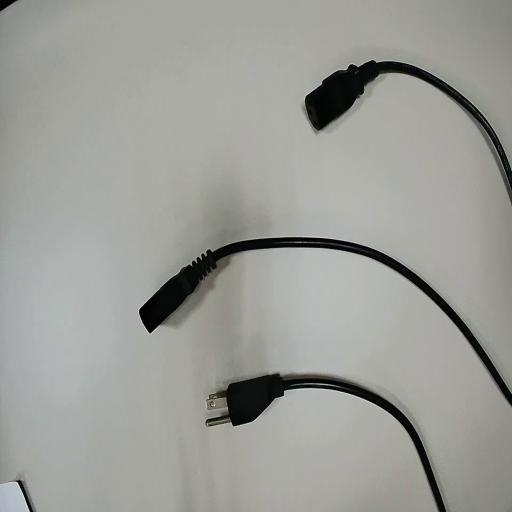wire: (140, 238, 511, 403), (208, 374, 445, 511), (306, 61, 511, 188)
